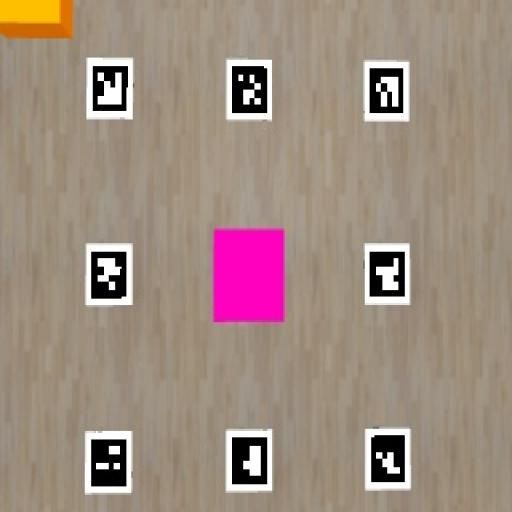car: (213, 229, 284, 324)
fire: (0, 0, 73, 38)
